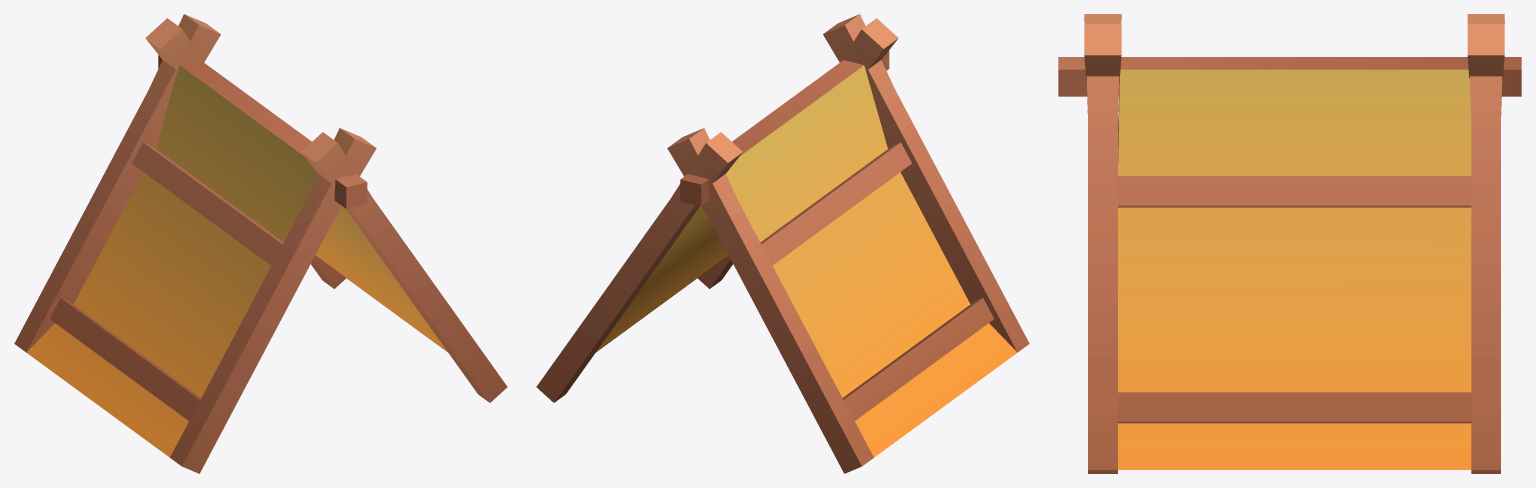
The model's file is k-survival-tent-canvas.glb.
The picture shows the model from 3 angles, left to right: view 1: azimuth 30°, elevation 25°; view 2: azimuth 150°, elevation 25°; view 3: azimuth 270°, elevation 25°; orthographic projection. The views are drawn at different scales.
Visible parts, largest first — view 1: tent-canvas; view 2: tent-canvas; view 3: tent-canvas.
Boxes of the visible parts, left/top/right/bottom form: tent-canvas: left=14, top=14, right=507, bottom=473; tent-canvas: left=536, top=14, right=1029, bottom=473; tent-canvas: left=1058, top=14, right=1521, bottom=473.
Bounding box in the file's own units: 0.5608 × 0.4914 × 0.561.
1 material, 1 textured.
